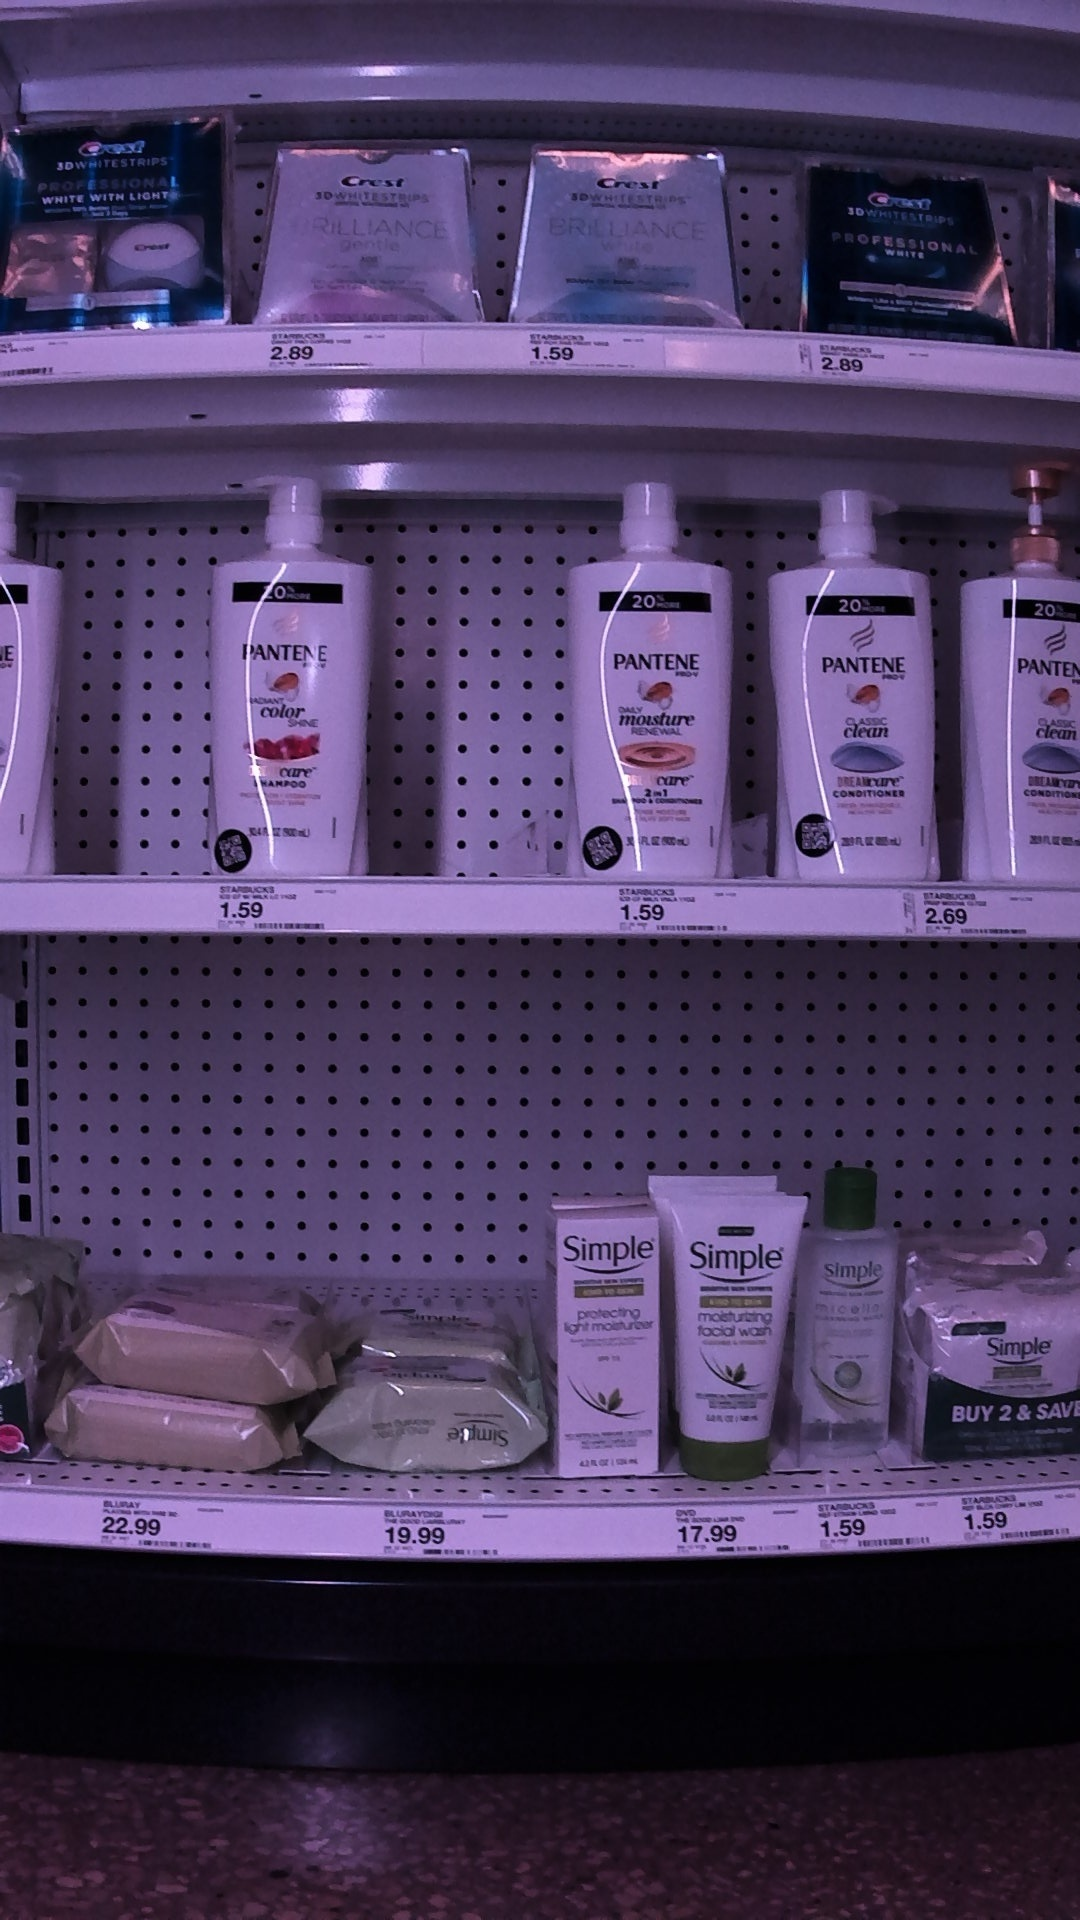ptag: (373, 1495, 520, 1569), (902, 882, 1044, 945), (603, 880, 740, 944), (211, 872, 331, 942), (95, 1489, 222, 1555), (260, 322, 393, 377), (802, 1497, 934, 1549), (957, 1486, 1080, 1543), (522, 322, 642, 377), (666, 1505, 786, 1560), (795, 328, 911, 382)
